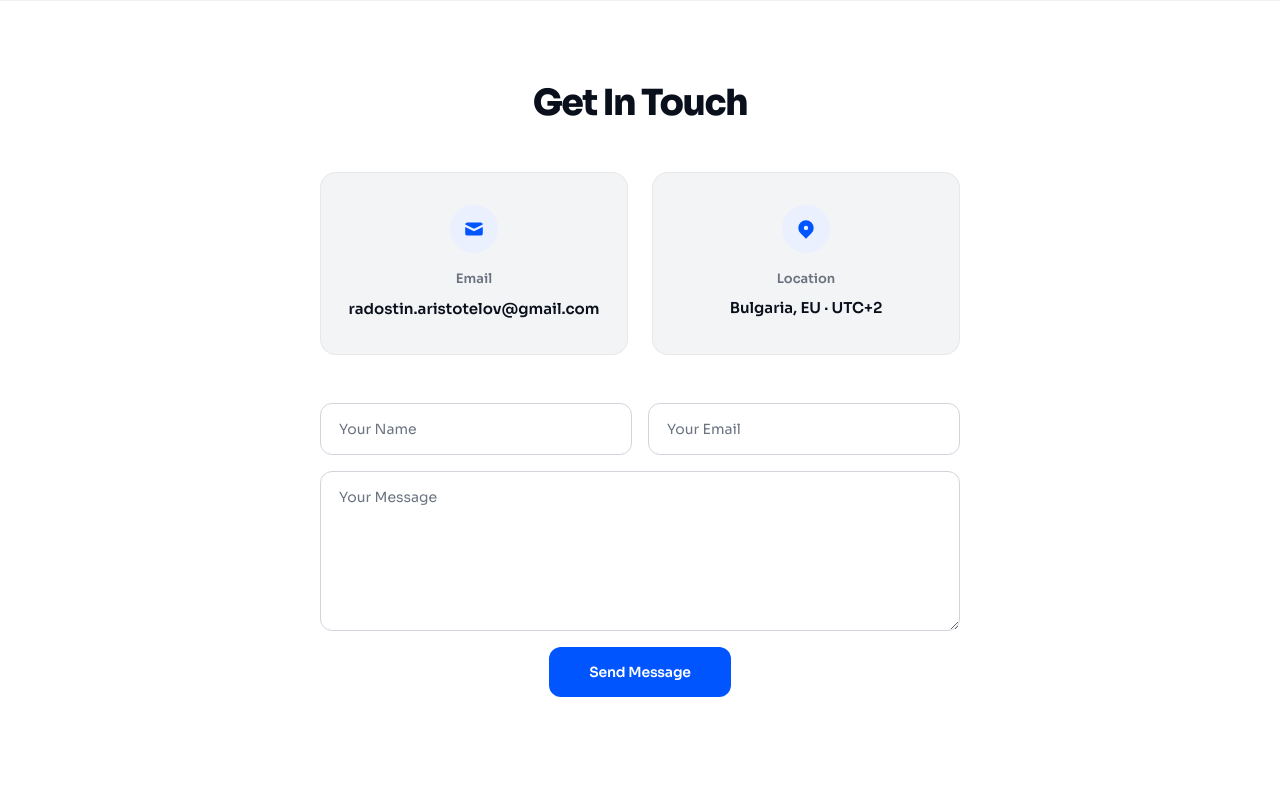
Contact form › valid submission › clears the success alert when the email is edited
Type "Ada Lovelace" into the field labelled "Your Name" at point(476, 429), box [320,403,632,455]
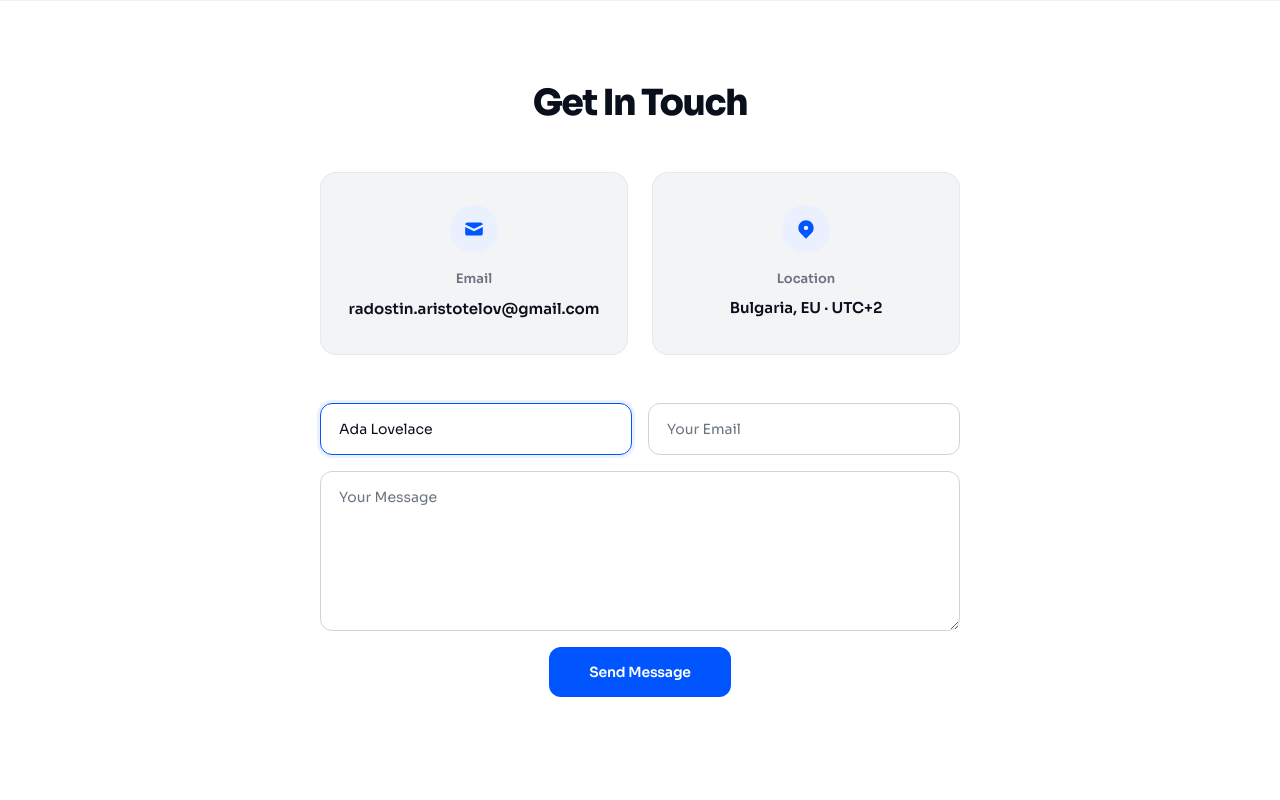
Type "ada@example.com" into the field labelled "Your Email" at point(804, 429), box [648,403,960,455]
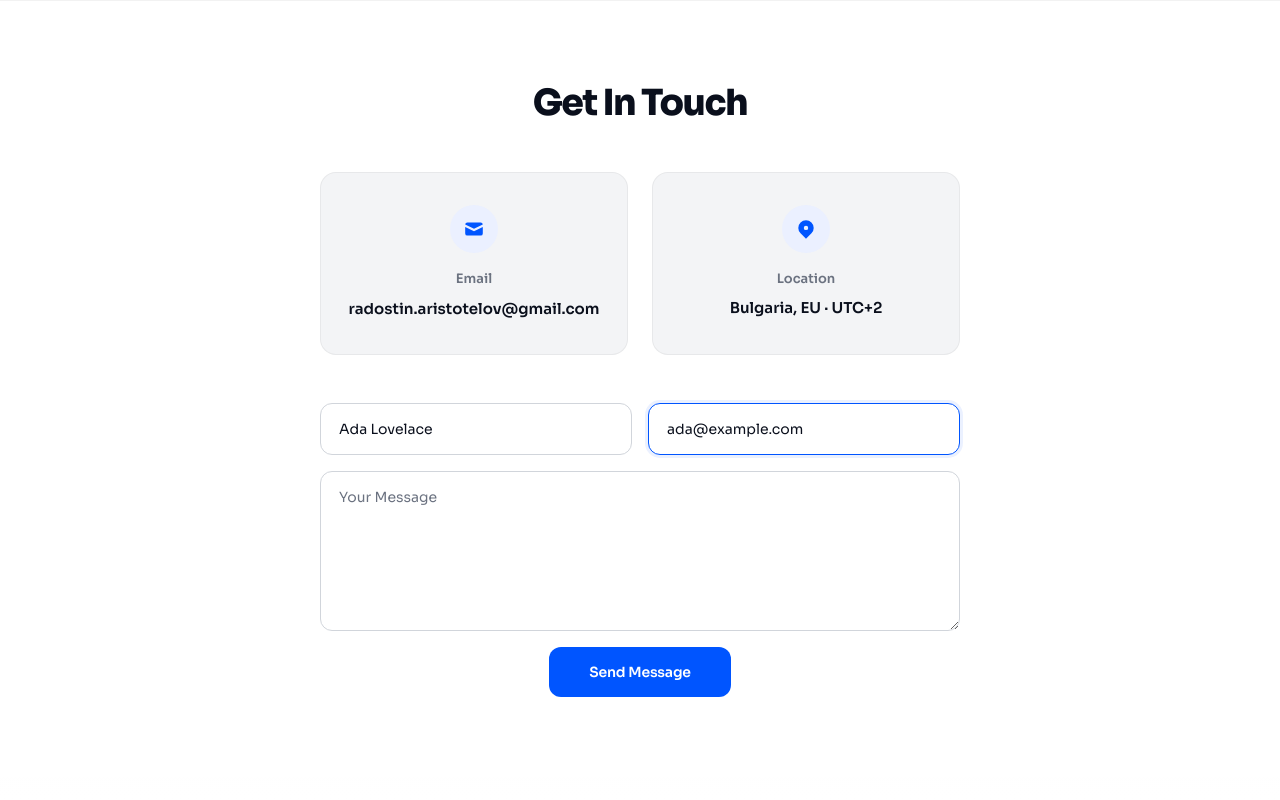
Type "Hello there" into the text box labelled "Your Message" at point(640, 551), box [320,471,960,631]
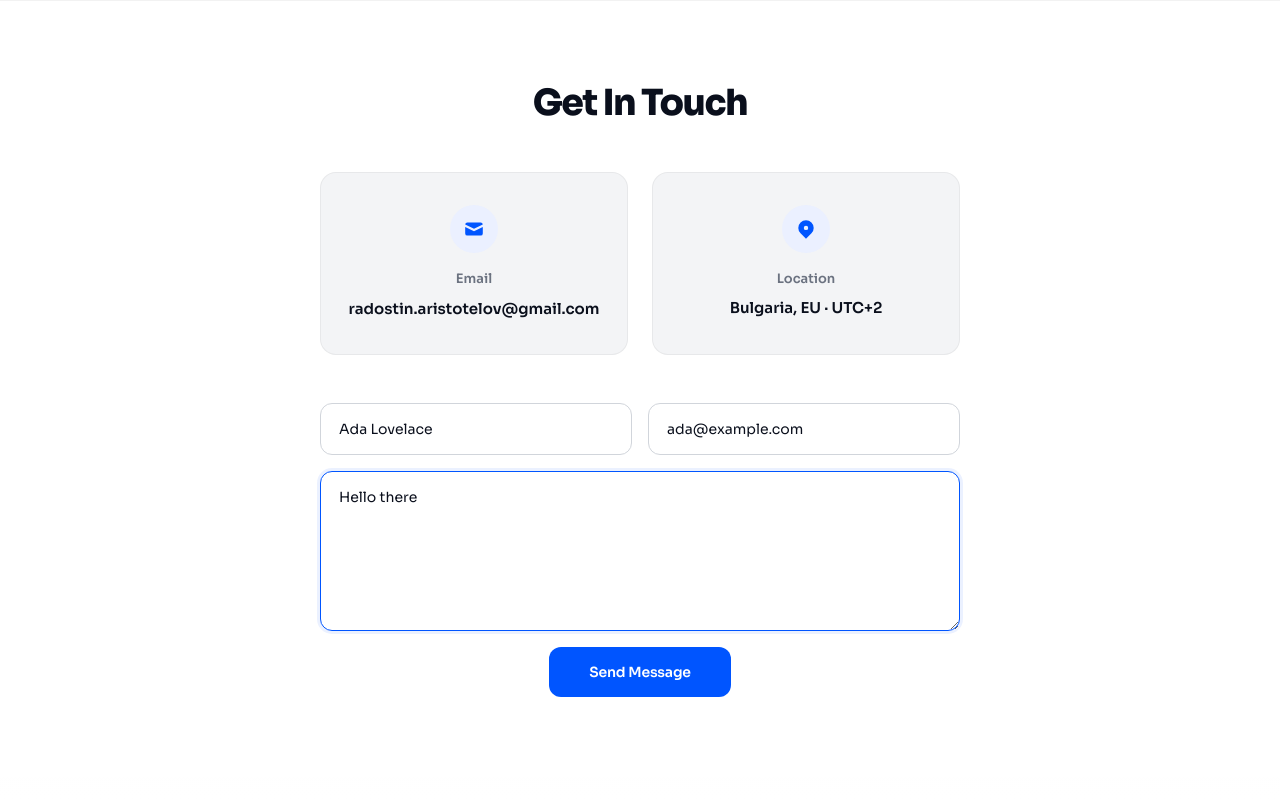
Click the button "Send Message" at point(640, 672), box [549,647,731,697]
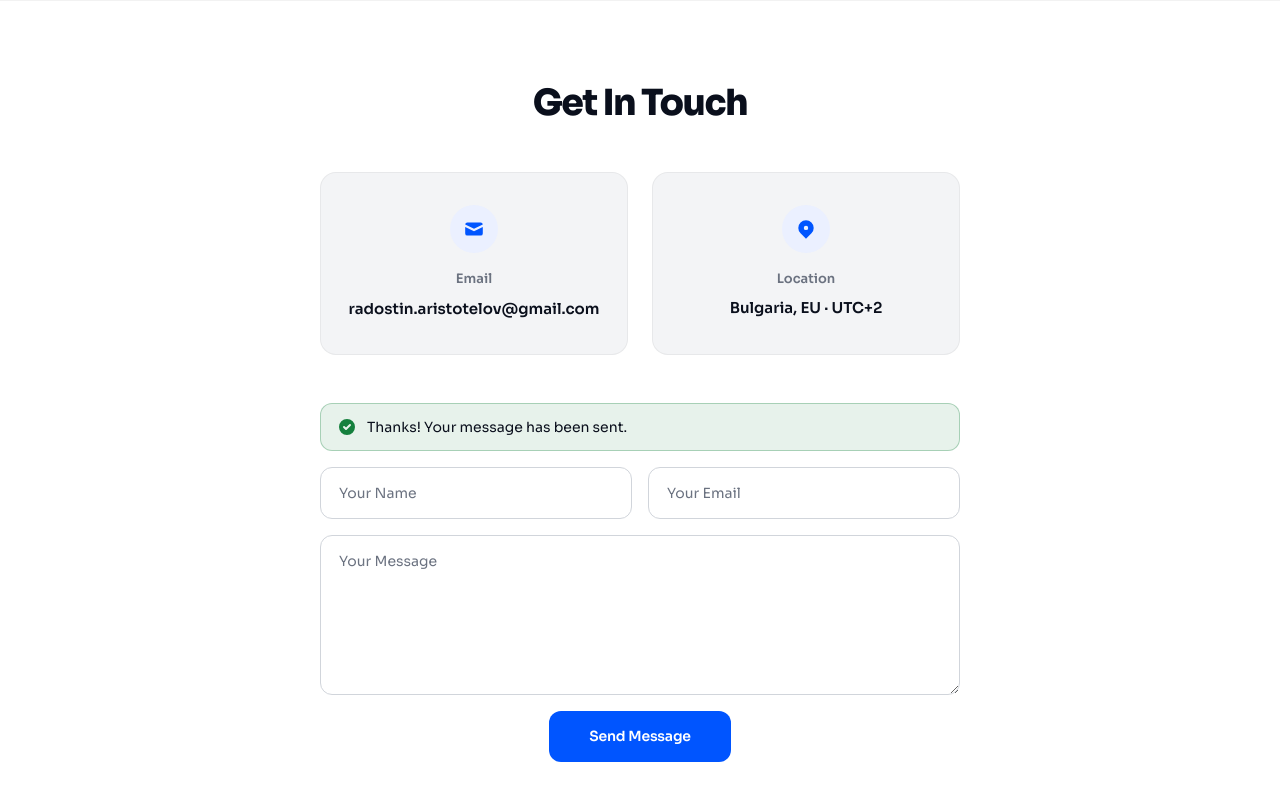
Result: the message "Thanks! Your message has been sent." is shown at [320,403,960,451]
Type "a" into the field labelled "Your Email" at point(804, 493), box [648,467,960,519]
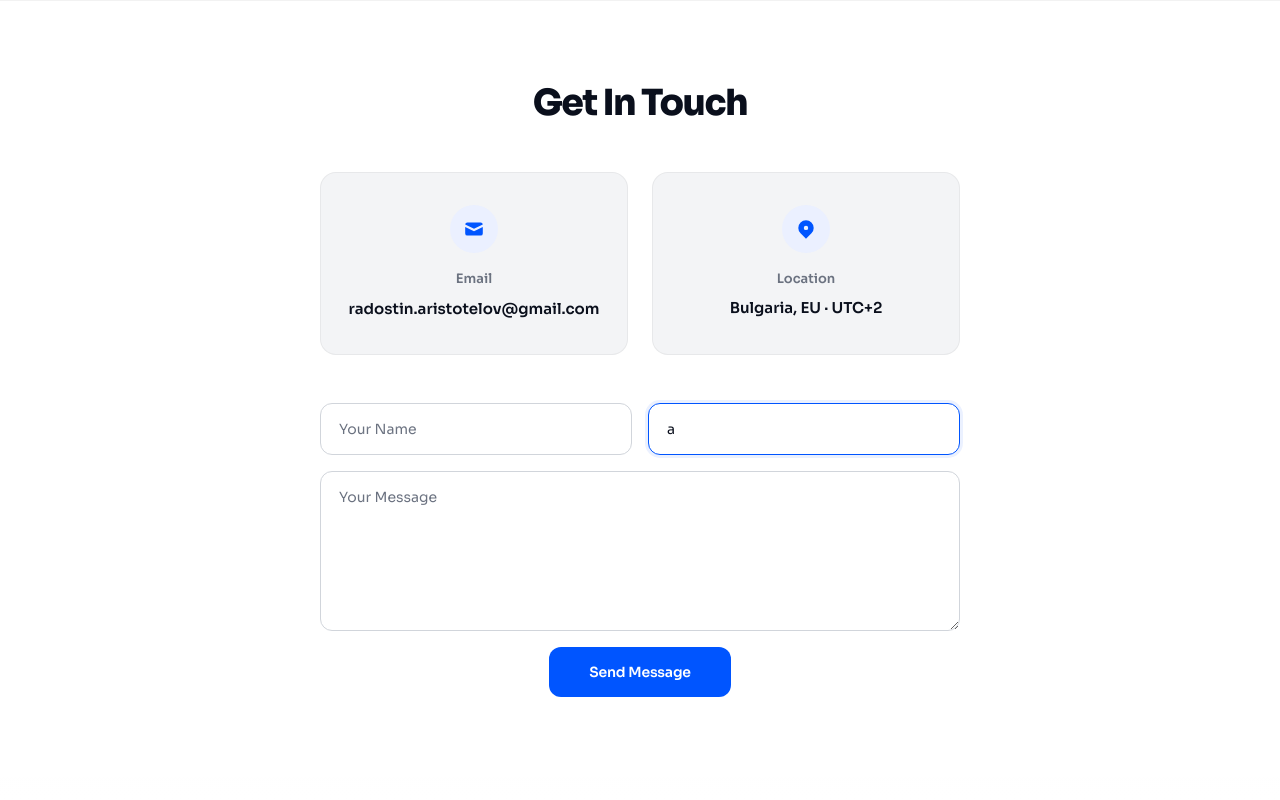
Result: the message "Thanks! Your message has been sent." is gone
